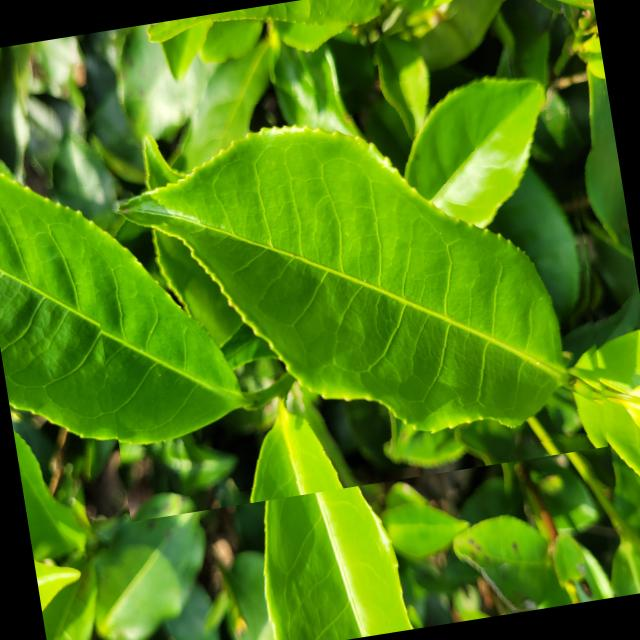Category B(2-4 days): (67, 41, 623, 521)
